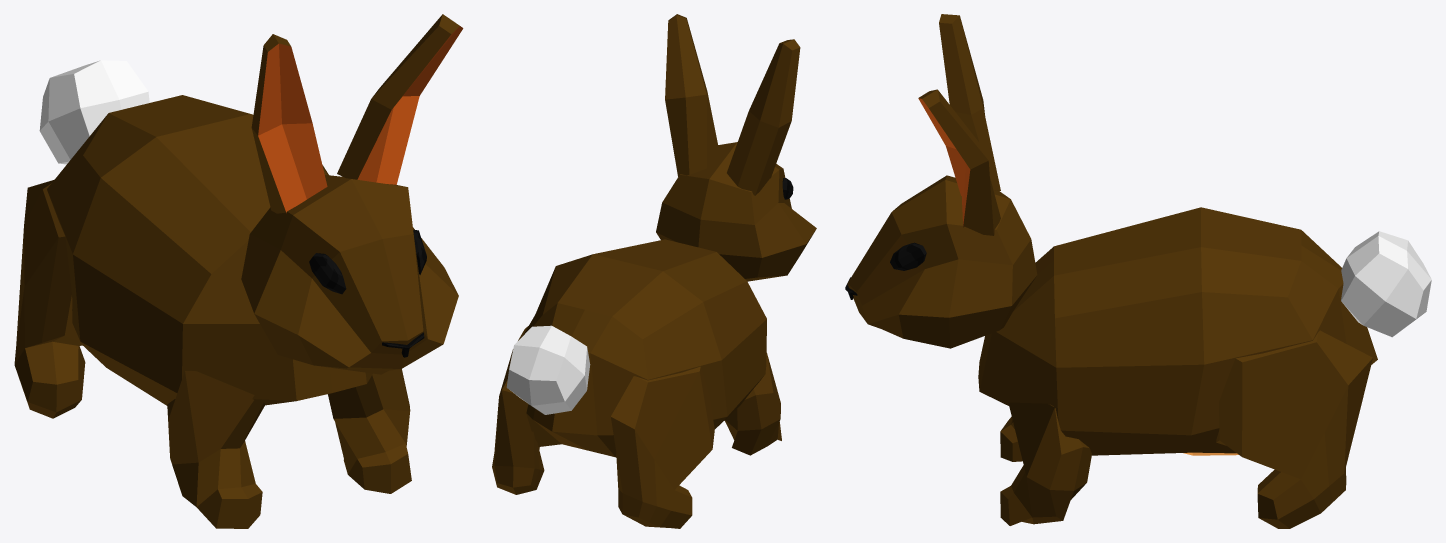
The model's file is lowPolyBunny.glb.
The picture shows the model from 3 angles, left to right: view 1: azimuth 30°, elevation 25°; view 2: azimuth 150°, elevation 25°; view 3: azimuth 270°, elevation 25°; orthographic projection. The views are drawn at different scales.
Parts seen in each view (by area): view 1: Cube; view 2: Cube; view 3: Cube.
Boxes of the visible parts, box(x1,y1,x2,y2) form: Cube: box(14, 14, 463, 528); Cube: box(492, 14, 816, 528); Cube: box(845, 14, 1431, 528).
Bounding box in the file's own units: 0.5731 × 1.04 × 1.24.
Materials: 1 (1 with a texture image).
